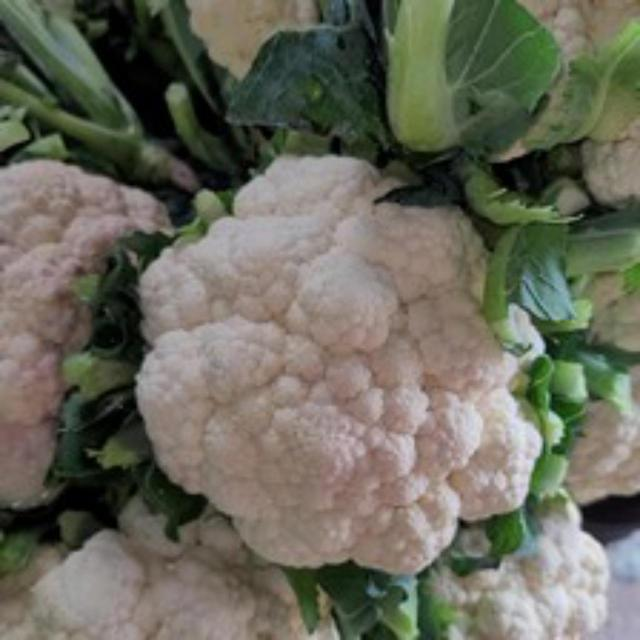cauliflower: (111, 138, 579, 579)
